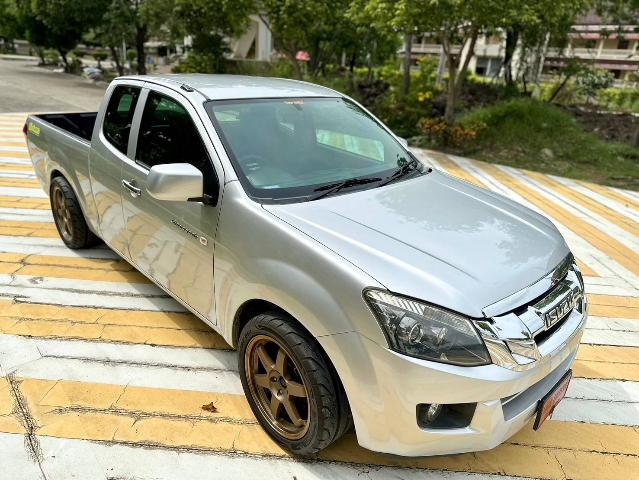pickup-truck: (14, 59, 597, 466)
